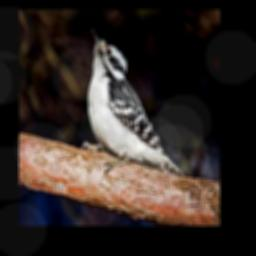Woodpecker: (79, 25, 184, 176)
